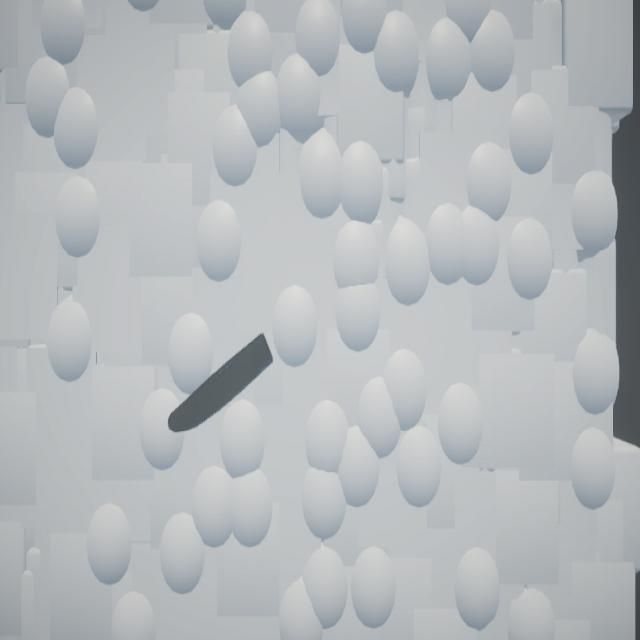top_knife: (168, 335, 274, 434)
